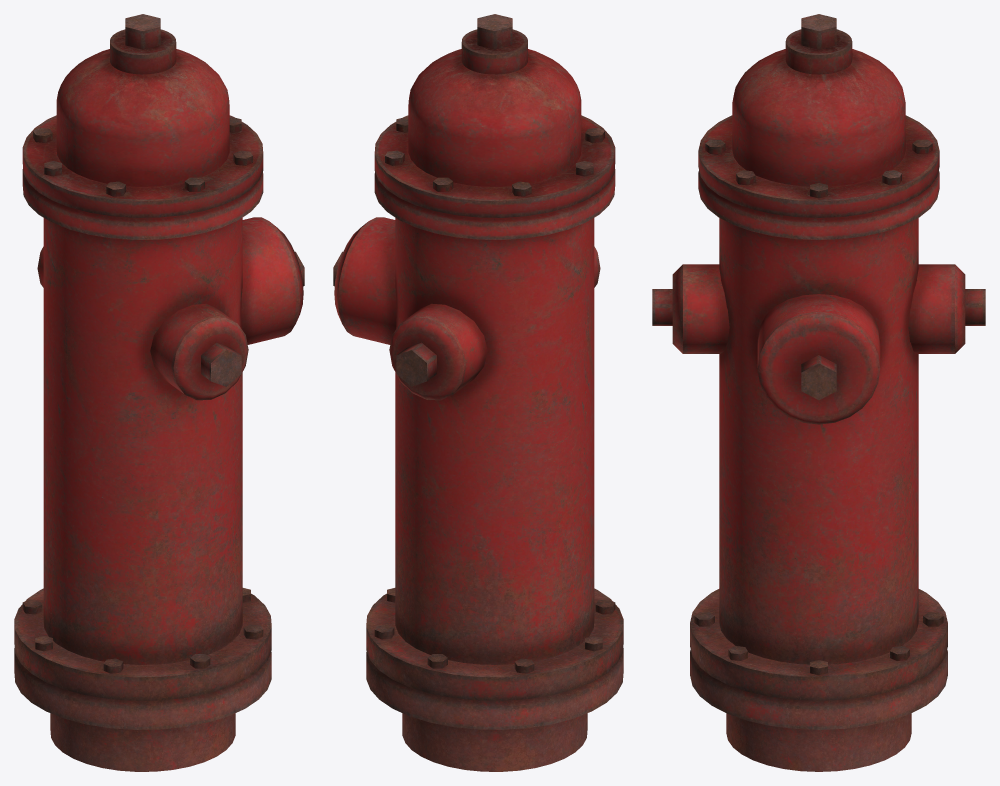
3 views of the same model, side by side, from view 1: azimuth 30°, elevation 25°; view 2: azimuth 150°, elevation 25°; view 3: azimuth 270°, elevation 25° (orthographic).
Parts seen in each view (by area): view 1: Hydrant2_60; view 2: Hydrant2_60; view 3: Hydrant2_60.
Part boxes in pixels (x1=…): Hydrant2_60: x1=14, y1=14, x2=304, y2=771; Hydrant2_60: x1=333, y1=14, x2=623, y2=771; Hydrant2_60: x1=652, y1=14, x2=985, y2=771.
Size of the model in its own units: 0.2993 by 0.7681 by 0.3268.
1 material, 1 textured.
